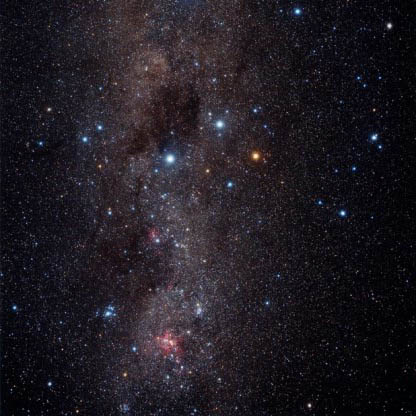Southern Cross: (156, 143, 178, 168), (246, 146, 268, 170), (222, 173, 238, 194), (211, 115, 228, 132)
